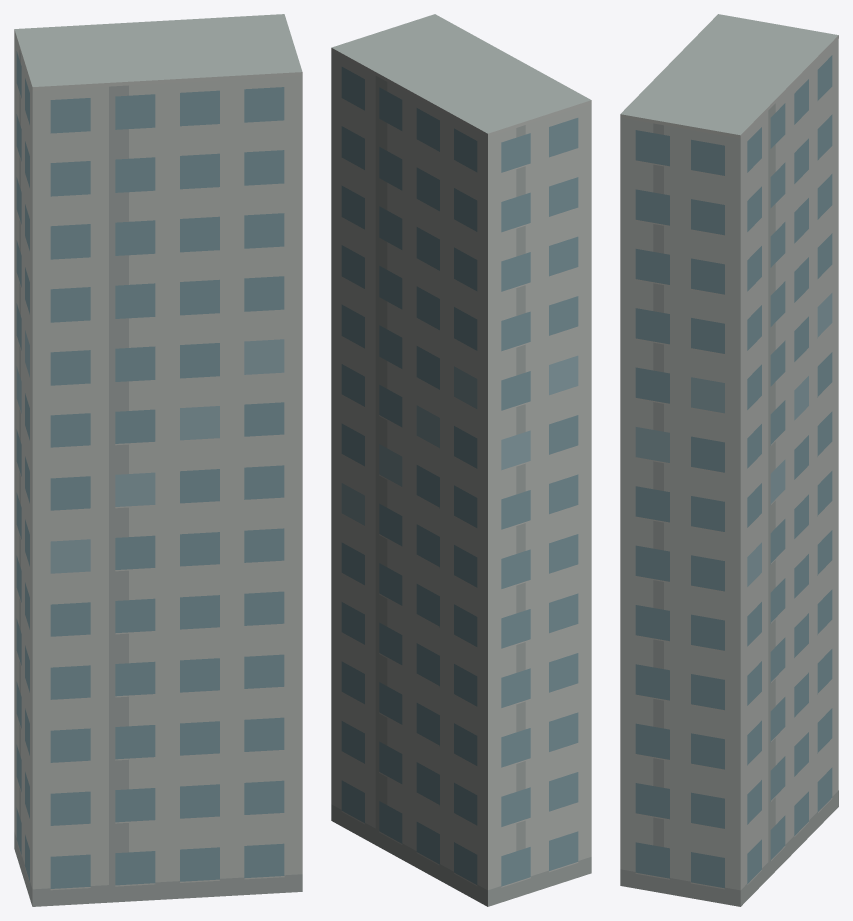
The model's file is residential-cfa7869d-53c0-4efb-bda0-8b2c1660fdee.glb.
The picture shows the model from 3 angles, left to right: view 1: azimuth 30°, elevation 25°; view 2: azimuth 150°, elevation 25°; view 3: azimuth 270°, elevation 25°; orthographic projection. The views are drawn at different scales.
Parts seen in each view (by area): view 1: residential-cfa7869d-53c0-4efb-bda0-8b2c1660fdee.tmp; view 2: residential-cfa7869d-53c0-4efb-bda0-8b2c1660fdee.tmp; view 3: residential-cfa7869d-53c0-4efb-bda0-8b2c1660fdee.tmp.
Part boxes in pixels (bbox=[...]): residential-cfa7869d-53c0-4efb-bda0-8b2c1660fdee.tmp: bbox=[14, 14, 302, 906]; residential-cfa7869d-53c0-4efb-bda0-8b2c1660fdee.tmp: bbox=[331, 14, 591, 906]; residential-cfa7869d-53c0-4efb-bda0-8b2c1660fdee.tmp: bbox=[620, 14, 838, 906].
Bounding box in the file's own units: 18.21 × 54 × 13.87.
